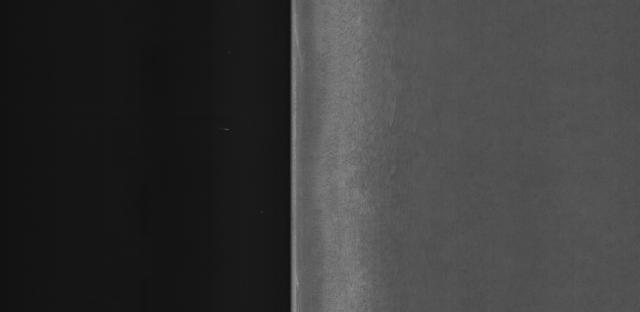silk_spot: (344, 41, 433, 262)
